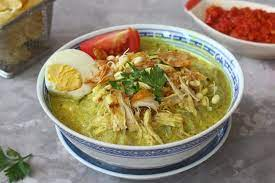soto: (40, 13, 245, 169)
